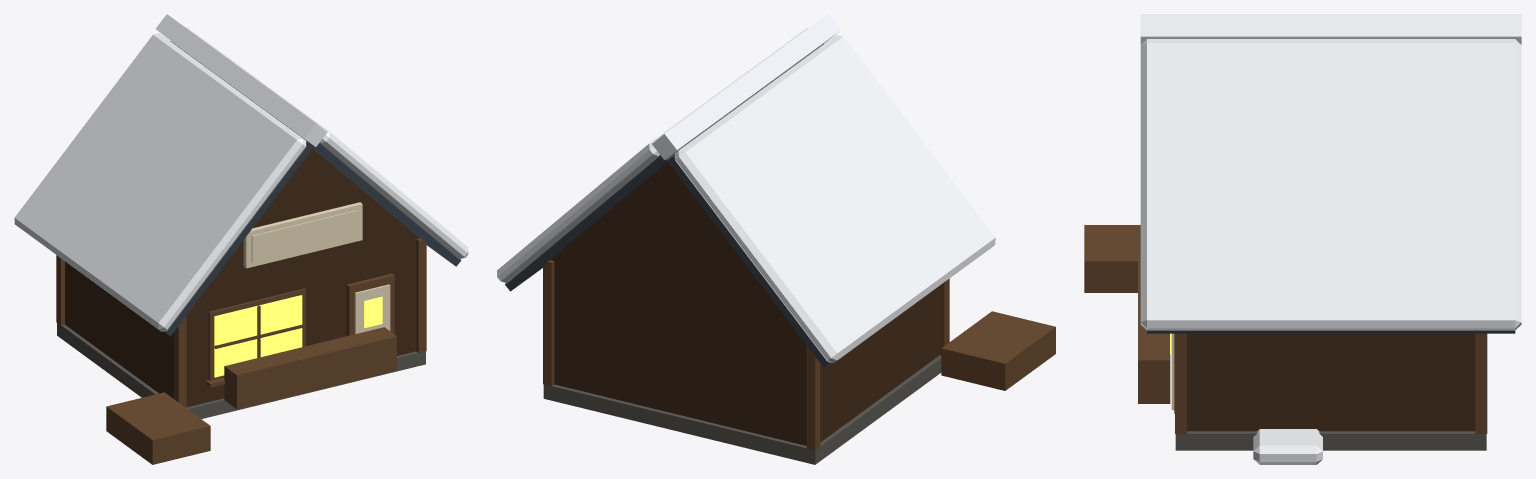
Rendered from rental-shop-adirondack.glb.
3 renders of one model, left to right at view 1: azimuth 30°, elevation 25°; view 2: azimuth 150°, elevation 25°; view 3: azimuth 270°, elevation 25°, orthographic. The views are drawn at different scales.
Visible parts, largest first — view 1: rental-shop-adirondack; view 2: rental-shop-adirondack; view 3: rental-shop-adirondack.
Boxes of the visible parts, x1,y1,x2,y2 form: rental-shop-adirondack: (14,14,468,464); rental-shop-adirondack: (497,14,1055,464); rental-shop-adirondack: (1084,14,1521,464).
Size of the model in its own units: 9.36 by 7.4 by 8.15.
